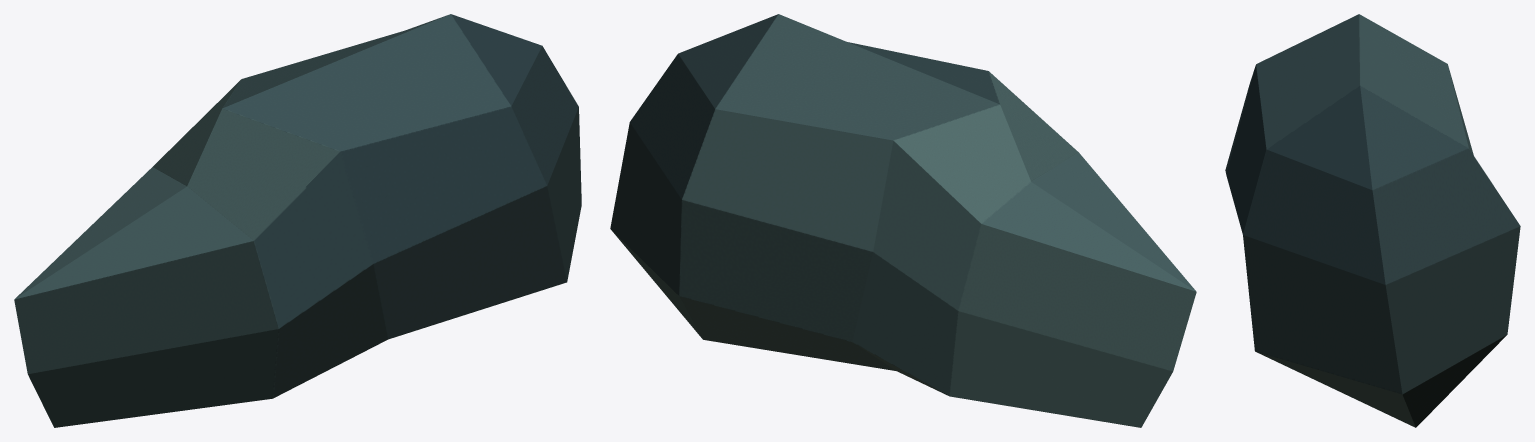
Rendered from little.obj.
3 renders of one model, left to right at view 1: azimuth 30°, elevation 25°; view 2: azimuth 150°, elevation 25°; view 3: azimuth 270°, elevation 25°, orthographic. The views are drawn at different scales.
Parts seen in each view (by area): view 1: Little; view 2: Little; view 3: Little.
Boxes of the visible parts, left/top/right/bottom form: Little: left=14, top=14, right=581, bottom=427; Little: left=610, top=14, right=1196, bottom=427; Little: left=1225, top=14, right=1520, bottom=427.
Bounding box in the file's own units: 0.4886 × 0.2611 × 0.219.
Materials: 1 (1 with a texture image).
